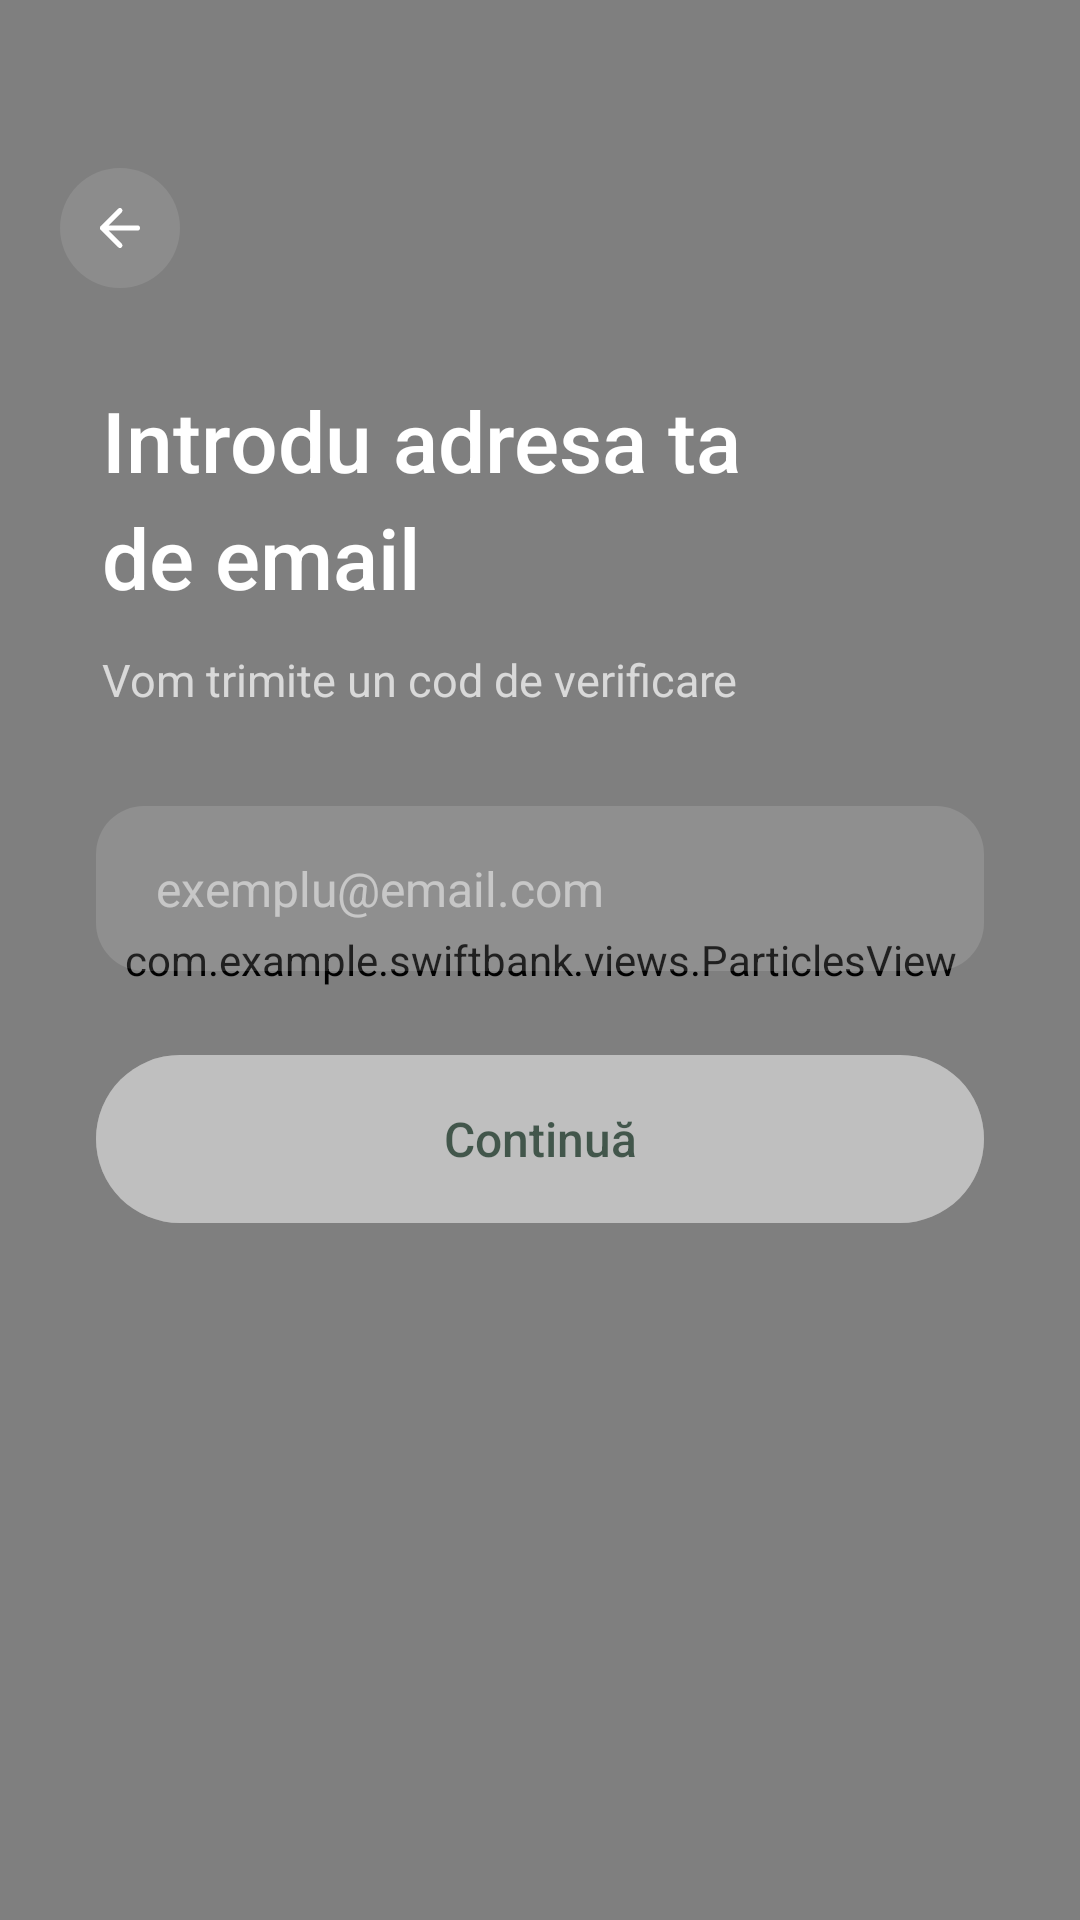

Where icons sit on this 1080 × 1920 app screen, as (x1, y1, x2, y2):
Înapoi: (60, 168, 180, 288)
